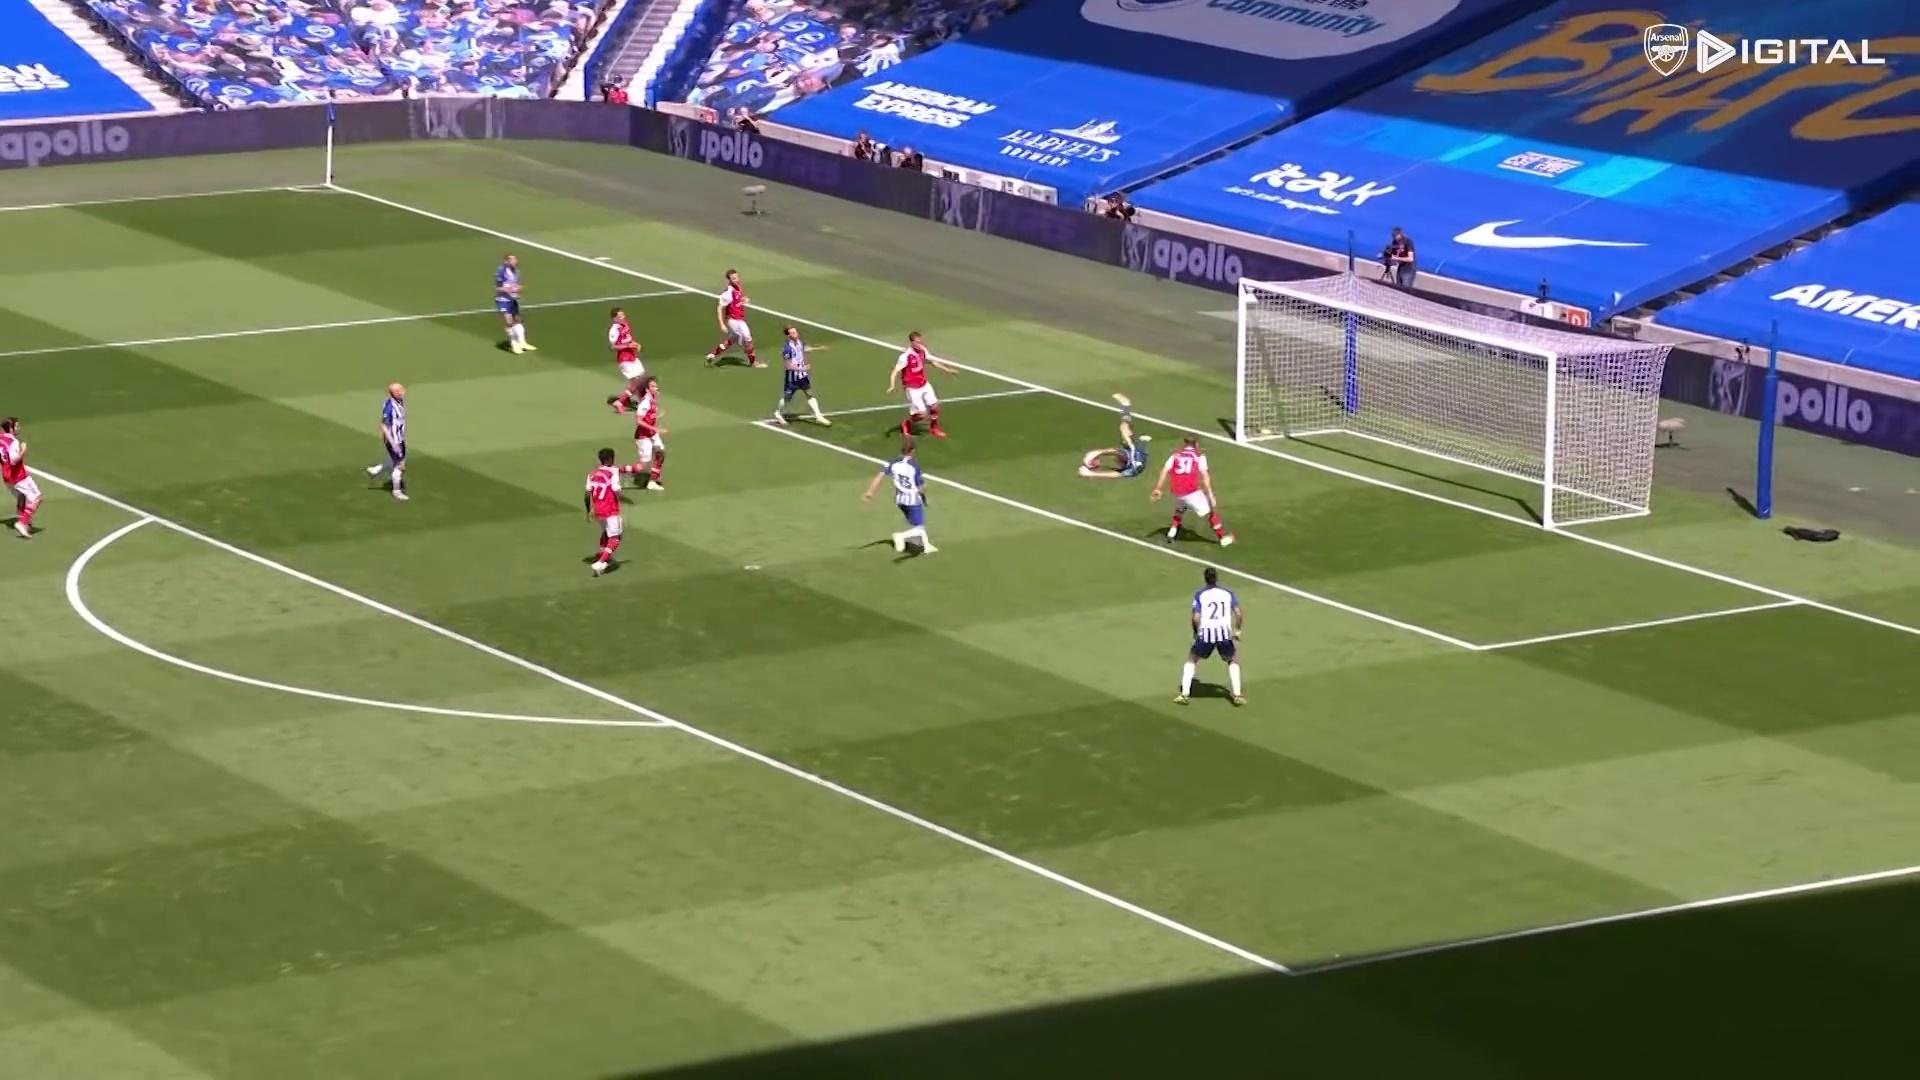ball: (1084, 452, 1100, 469)
goalkeeper: (1077, 392, 1152, 479)
player: (1171, 567, 1246, 707), (1150, 433, 1235, 549), (861, 440, 939, 555), (886, 331, 959, 440), (705, 268, 769, 369), (773, 323, 833, 427), (616, 377, 668, 492), (583, 447, 626, 579), (0, 416, 43, 539), (365, 381, 408, 500), (492, 252, 540, 355), (608, 307, 647, 415)
